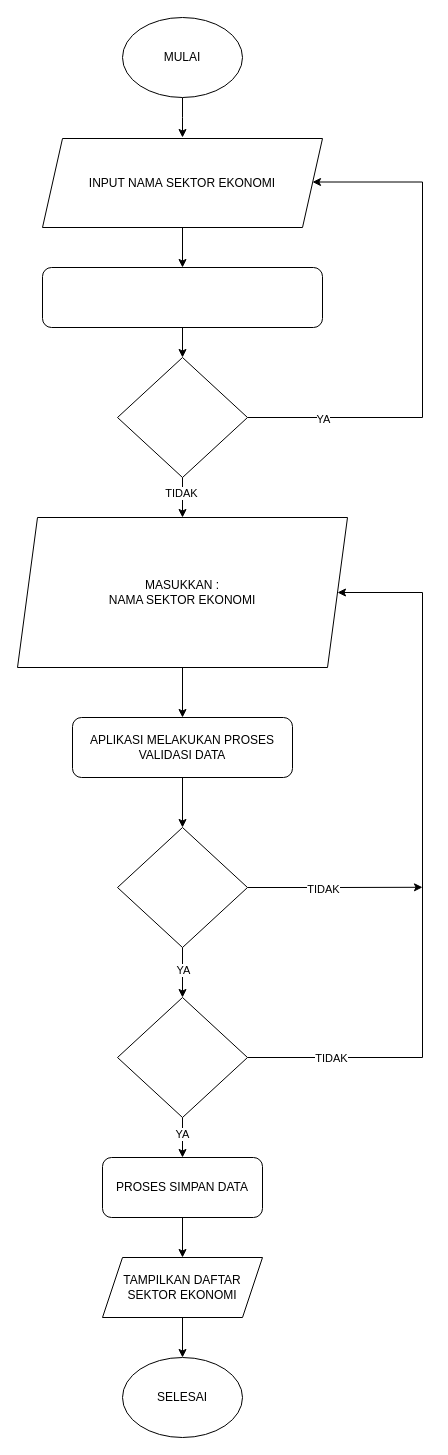
Some shapes in this 448 by 1455 pixel diagram are drawn without their labels. The shapes that lost their labels are listed below. From the top down, each one's centre as x and y in pixels, then its label:
(182,297): CARI DATA SEKTOR EKONOMI
(182,417): DATA DITEMUKAN?
(182,887): DATA VALID?
(182,1057): SIMPAN DATA?
